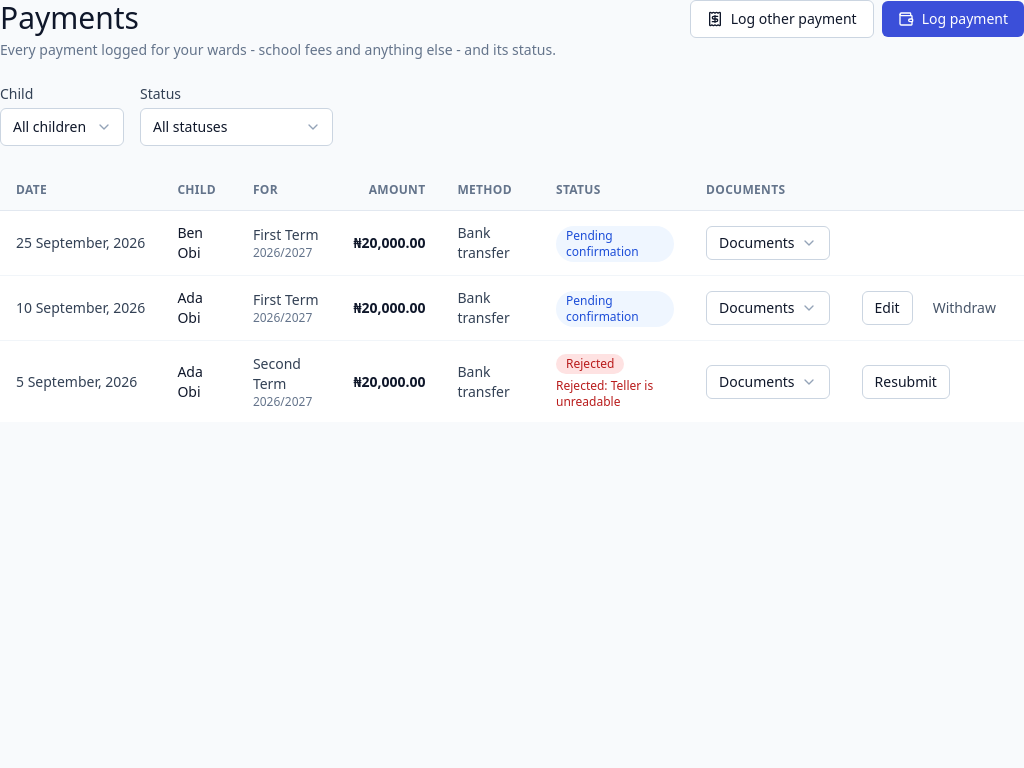
it: WardPaymentsPage › shows a rejection's reason and opens Resubmit for its submitter
The image size is (1024, 768).
Expected: the text "Rejected: Teller is unreadable" is shown, x1=556 y1=377 x2=653 y2=410
Click the button "Resubmit".
click(906, 382)  # box x1=862 y1=364 x2=950 y2=398
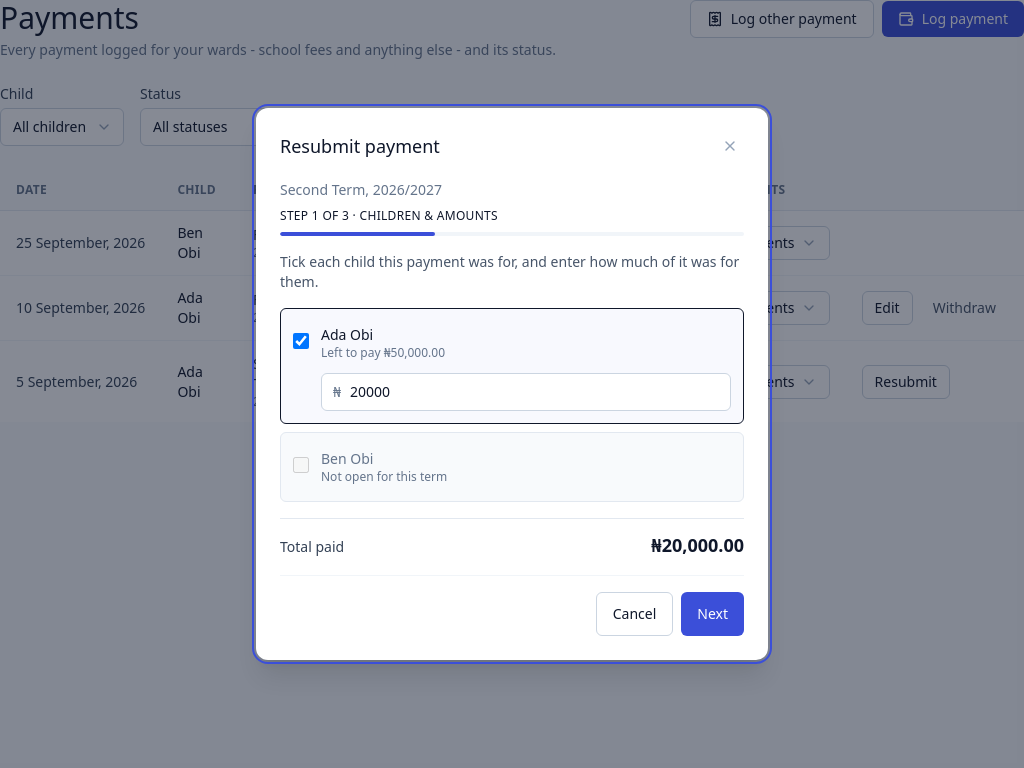
Result: the dialog "Resubmit payment" is shown at x1=256 y1=108 x2=768 y2=660
